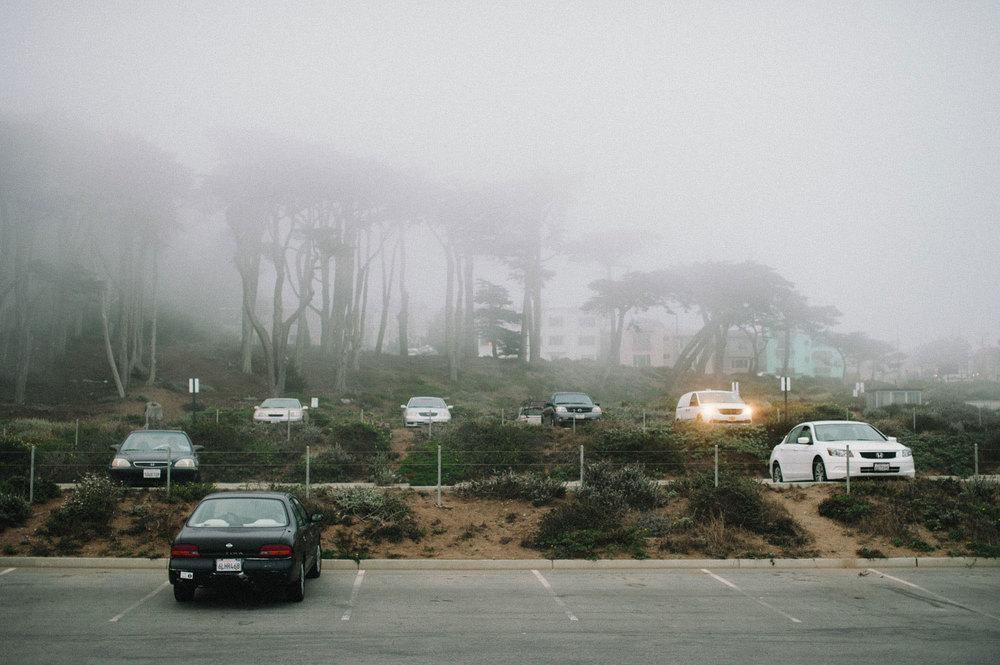car: (168, 489, 325, 604), (767, 419, 916, 485), (106, 427, 206, 491), (675, 390, 753, 432), (542, 391, 603, 430), (253, 398, 309, 435), (399, 395, 454, 431)
